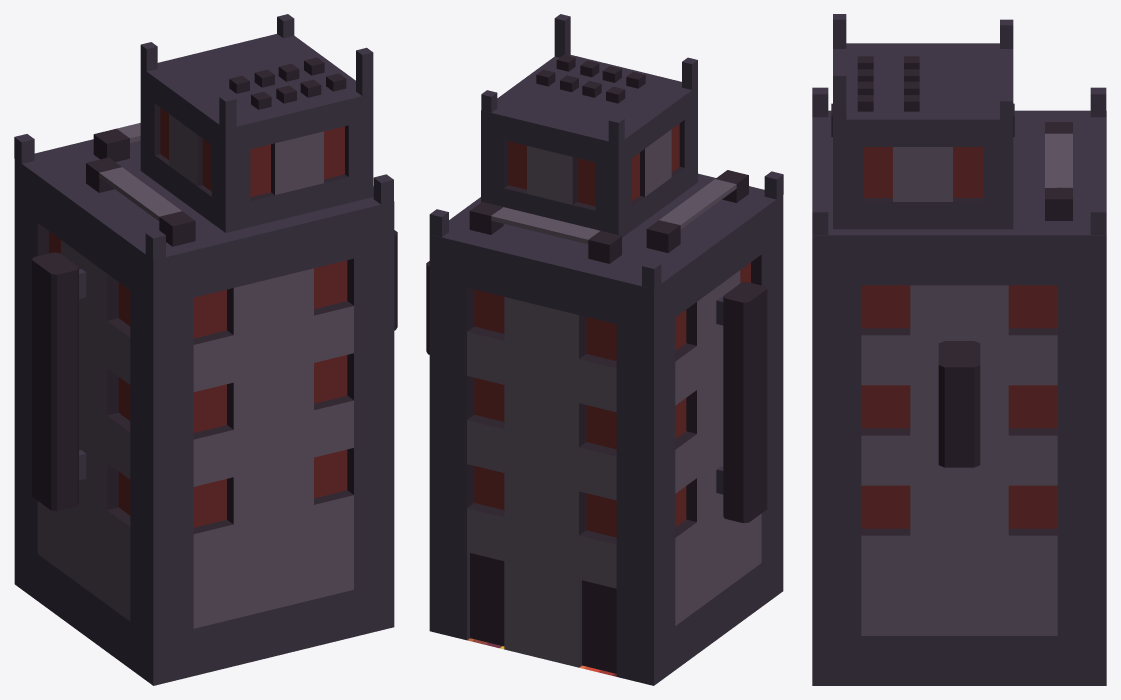
The model's file is Tower-1-2.fbx.
3 views of the same model, side by side, from view 1: azimuth 30°, elevation 25°; view 2: azimuth 150°, elevation 25°; view 3: azimuth 270°, elevation 25° (orthographic). The views are drawn at different scales.
Parts seen in each view (by area): view 1: Tower-1-2.002; view 2: Tower-1-2.002; view 3: Tower-1-2.002.
Boxes of the visible parts, <box> form: Tower-1-2.002: <box>14,14,397,685</box>; Tower-1-2.002: <box>426,14,783,685</box>; Tower-1-2.002: <box>812,14,1106,685</box>.
Bounding box in the file's own units: 98.1 × 153 × 67.63.
